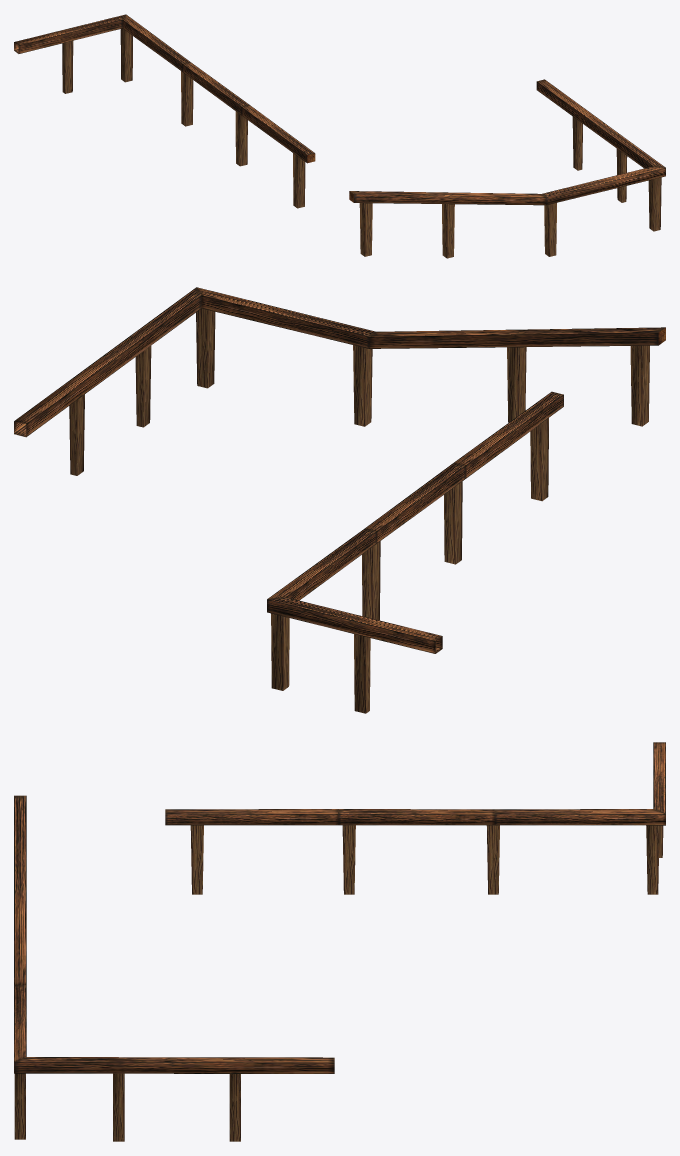
Rendered from LAKETOWN_EXTERIOR_PS_LT_HANDRAILS8847__GX.fbx.
3 renders of one model, top to bottom at view 1: azimuth 30°, elevation 25°; view 2: azimuth 150°, elevation 25°; view 3: azimuth 270°, elevation 25°, orthographic. The views are drawn at different scales.
Visible parts, largest first — view 1: LAKETOWN_EXTERIOR_PS_LT_HANDRAILS8847__GX; view 2: LAKETOWN_EXTERIOR_PS_LT_HANDRAILS8847__GX; view 3: LAKETOWN_EXTERIOR_PS_LT_HANDRAILS8847__GX.
Boxes of the visible parts, x1,y1,x2,y2 form: LAKETOWN_EXTERIOR_PS_LT_HANDRAILS8847__GX: (14,14,665,258); LAKETOWN_EXTERIOR_PS_LT_HANDRAILS8847__GX: (14,287,665,713); LAKETOWN_EXTERIOR_PS_LT_HANDRAILS8847__GX: (14,742,665,1141).
Bounding box in the file's own units: 67900 × 17682 × 71521.
Materials: 3 (3 with a texture image).
